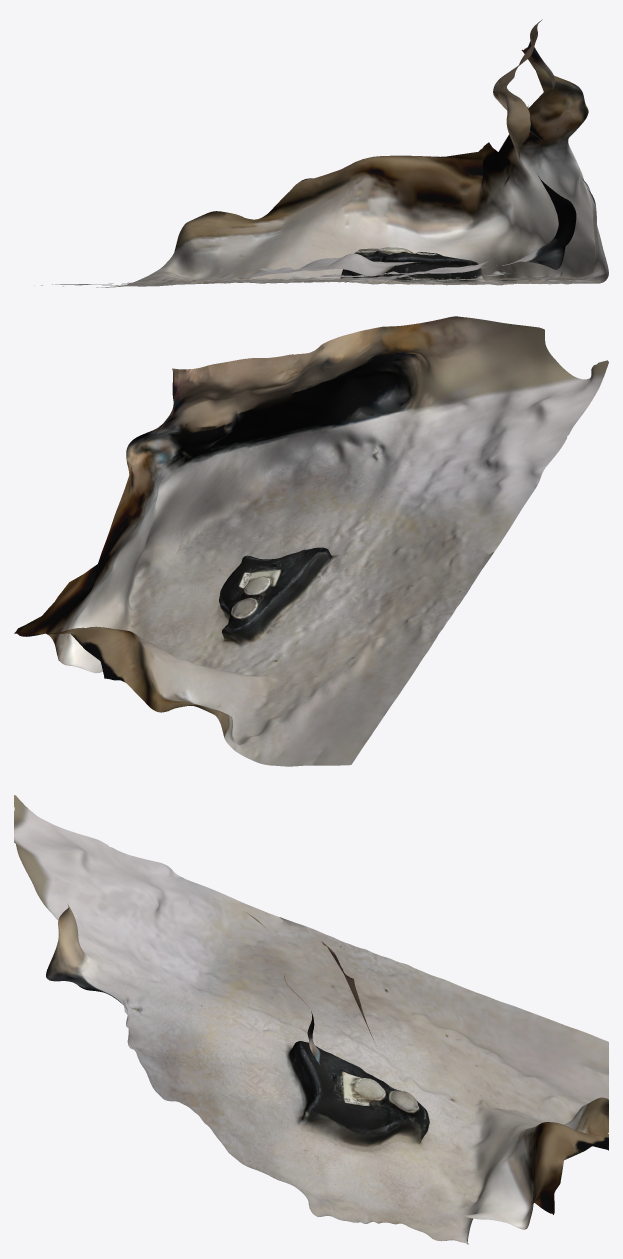
The picture shows the model from 3 angles, top to bottom: view 1: azimuth 30°, elevation 25°; view 2: azimuth 150°, elevation 25°; view 3: azimuth 270°, elevation 25°; orthographic projection. The views are drawn at different scales.
Size of the model in its own units: 1.57 by 1.07 by 1.94.
1 material, 1 textured.
